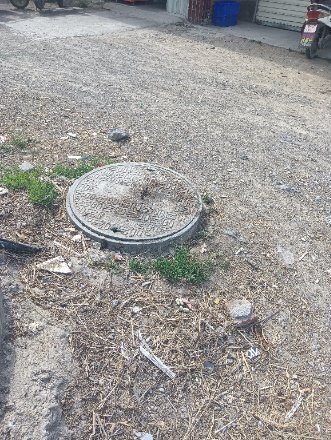good: (66, 162, 203, 245)
